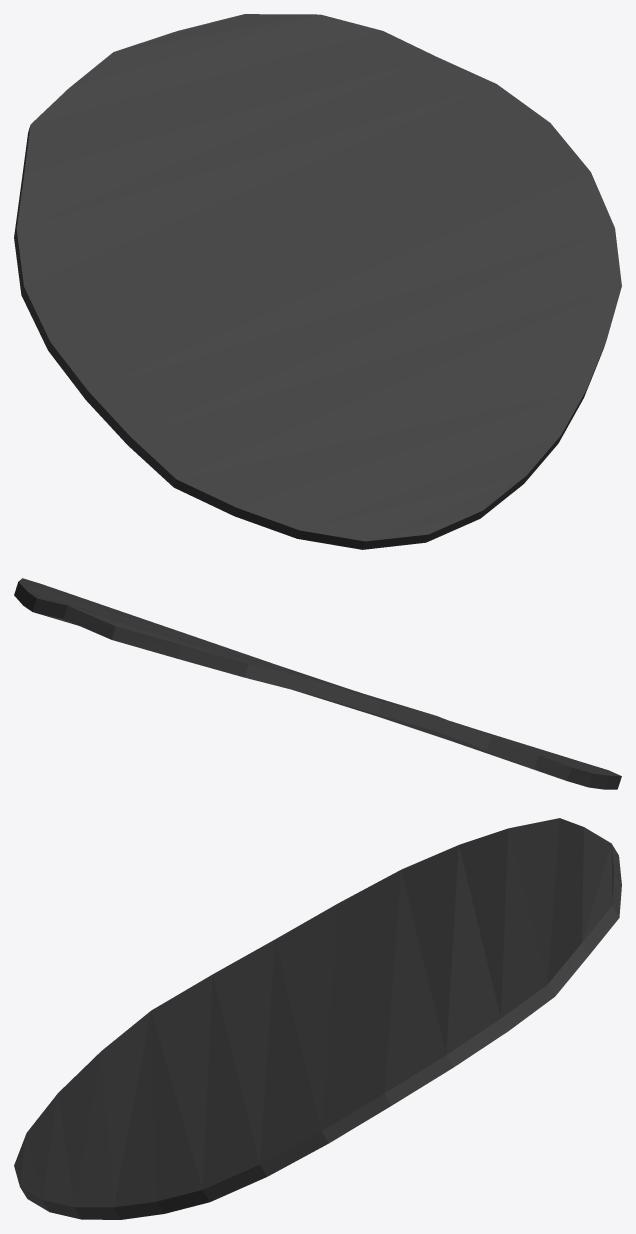
File: c5_vertebral_canal.glb
The picture shows the model from 3 angles, top to bottom: view 1: azimuth 30°, elevation 25°; view 2: azimuth 150°, elevation 25°; view 3: azimuth 270°, elevation 25°; orthographic projection. The views are drawn at different scales.
Visible parts, largest first — view 1: c5_vertebral_canal; view 2: c5_vertebral_canal; view 3: c5_vertebral_canal.
Boxes of the visible parts, x1,y1,x2,y2 form: c5_vertebral_canal: [14, 14, 621, 549]; c5_vertebral_canal: [14, 578, 621, 789]; c5_vertebral_canal: [14, 818, 621, 1219].
Bounding box in the file's own units: 9.84 × 5.33 × 9.12.
Materials: 1 (1 with a texture image).
